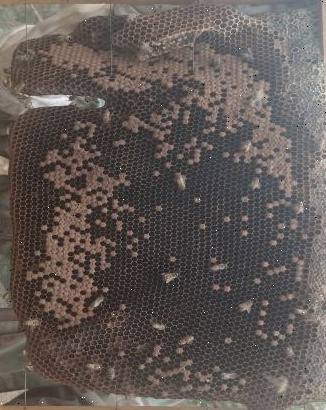cria: (37, 40, 298, 197), (23, 118, 149, 330), (155, 196, 306, 347), (114, 344, 247, 396)
